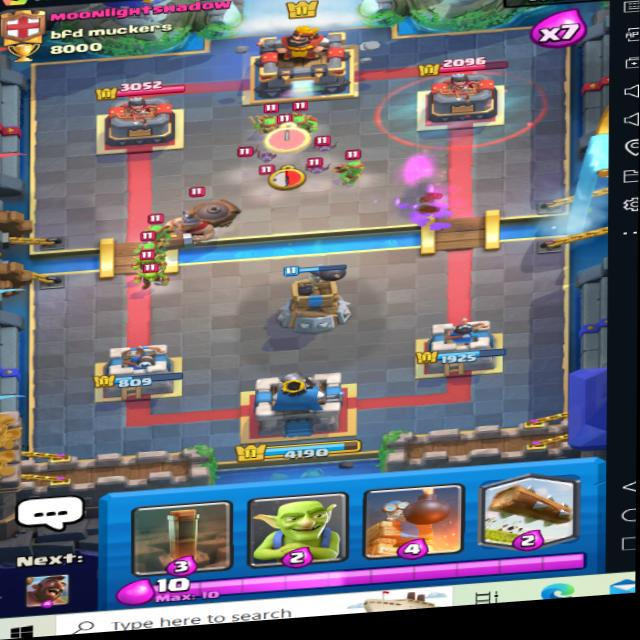bats: (250, 144, 282, 168), (300, 157, 331, 178), (309, 135, 337, 154)
clone: (375, 60, 544, 161)
goblin: (132, 259, 175, 292)
mighty-miner: (156, 177, 245, 258)
spear-goblin: (335, 151, 375, 186), (136, 213, 175, 248), (288, 101, 322, 136), (134, 235, 168, 265), (248, 109, 281, 136)
